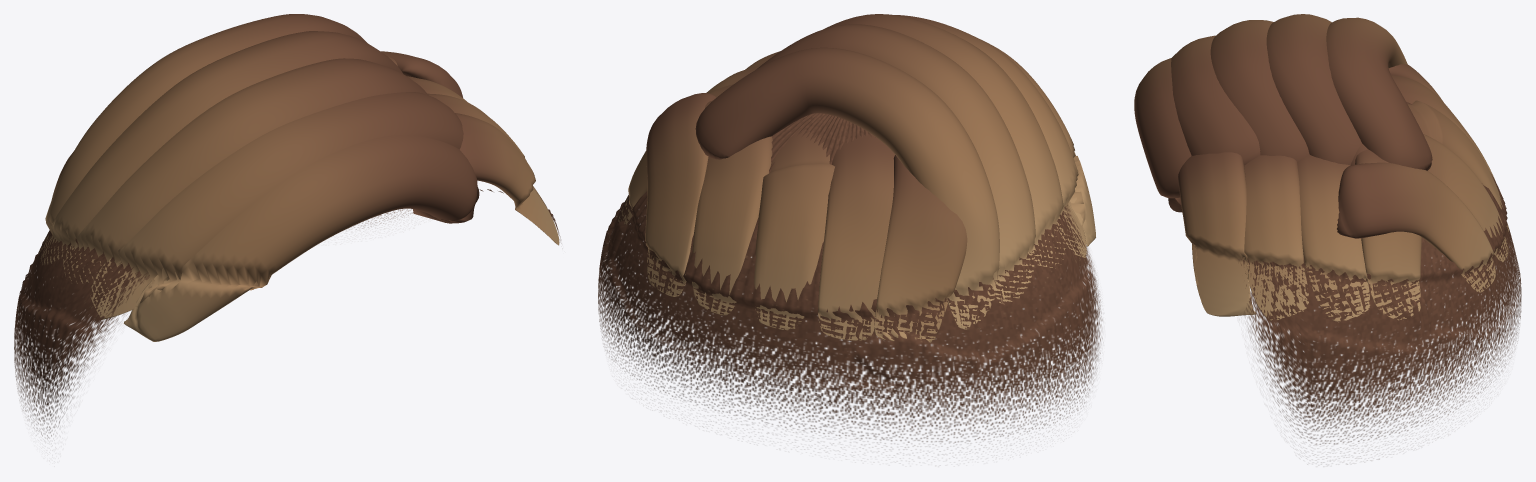
Rendered from Masculine-taper-headband256-hair-ombre.glb.
3 renders of one model, left to right at view 1: azimuth 30°, elevation 25°; view 2: azimuth 150°, elevation 25°; view 3: azimuth 270°, elevation 25°, orthographic. The views are drawn at different scales.
Visible parts, largest first — view 1: 226 hair / Hair252 / sculpted locks, 226 hair / Hair252 / gentle tonal variation, 226 hair / Hair256 / selected B sides; view 2: 226 hair / Hair252 / sculpted locks, 226 hair / Hair256 / selected B sides, 226 hair / Hair252 / gentle tonal variation; view 3: 226 hair / Hair252 / sculpted locks, 226 hair / Hair256 / selected B sides, 226 hair / Hair252 / gentle tonal variation.
Part boxes in pixels (x1,y1,x2,y2): 226 hair / Hair252 / sculpted locks: (38, 14, 546, 319); 226 hair / Hair252 / gentle tonal variation: (123, 113, 559, 341); 226 hair / Hair256 / selected B sides: (14, 187, 561, 438); 226 hair / Hair252 / sculpted locks: (618, 14, 1086, 342); 226 hair / Hair256 / selected B sides: (598, 113, 1102, 448); 226 hair / Hair252 / gentle tonal variation: (745, 40, 1095, 340); 226 hair / Hair252 / sculpted locks: (1171, 14, 1508, 322); 226 hair / Hair256 / selected B sides: (1238, 102, 1521, 464); 226 hair / Hair252 / gentle tonal variation: (1134, 58, 1495, 316).
Bounding box in the file's own units: 0.972 × 0.6944 × 0.7438.
Materials: 3 (1 with a texture image).
